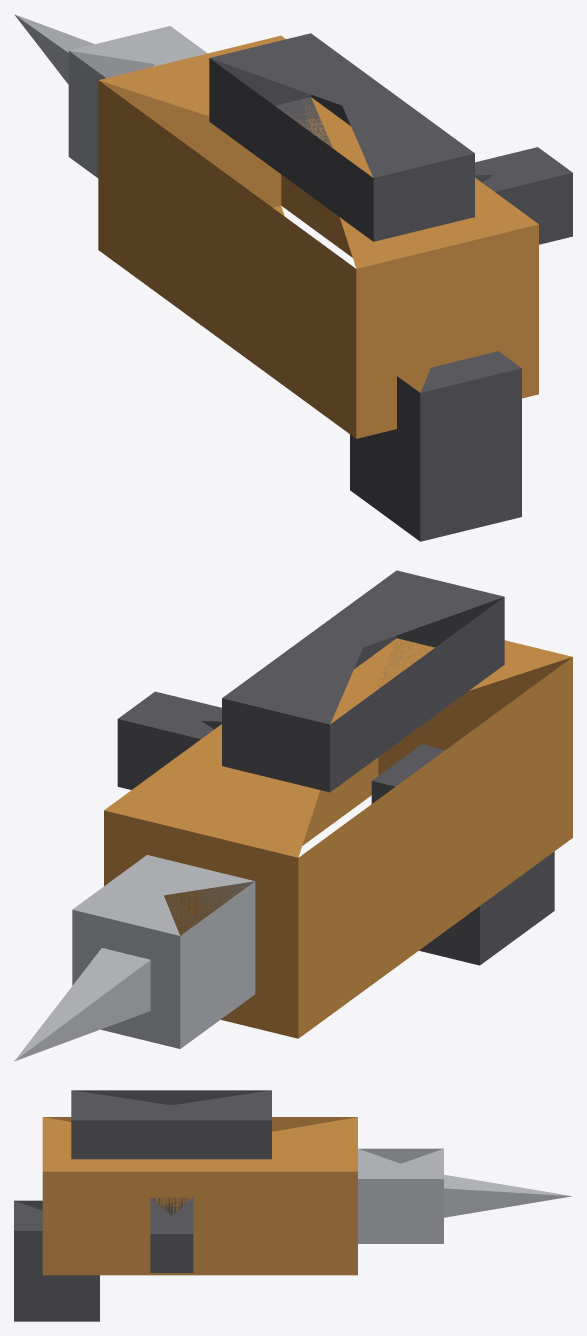
Rendered from cutter.glb.
3 views of the same model, one above another, from view 1: azimuth 30°, elevation 25°; view 2: azimuth 150°, elevation 25°; view 3: azimuth 270°, elevation 25° (orthographic). The views are drawn at different scales.
Visible parts, largest first — view 1: tool.cutter; view 2: tool.cutter; view 3: tool.cutter.
Boxes of the visible parts, x1,y1,x2,y2 form: tool.cutter: [14, 14, 572, 541]; tool.cutter: [14, 570, 572, 1061]; tool.cutter: [14, 1090, 571, 1321].
Bounding box in the file's own units: 0.15 × 0.155 × 0.39.
